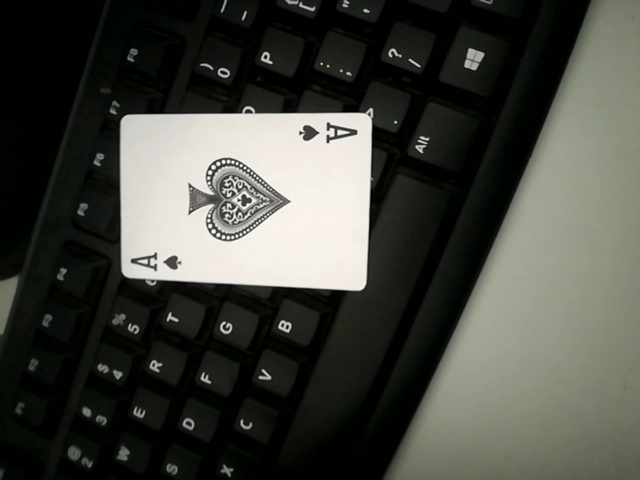ht a: (109, 102, 373, 290)
